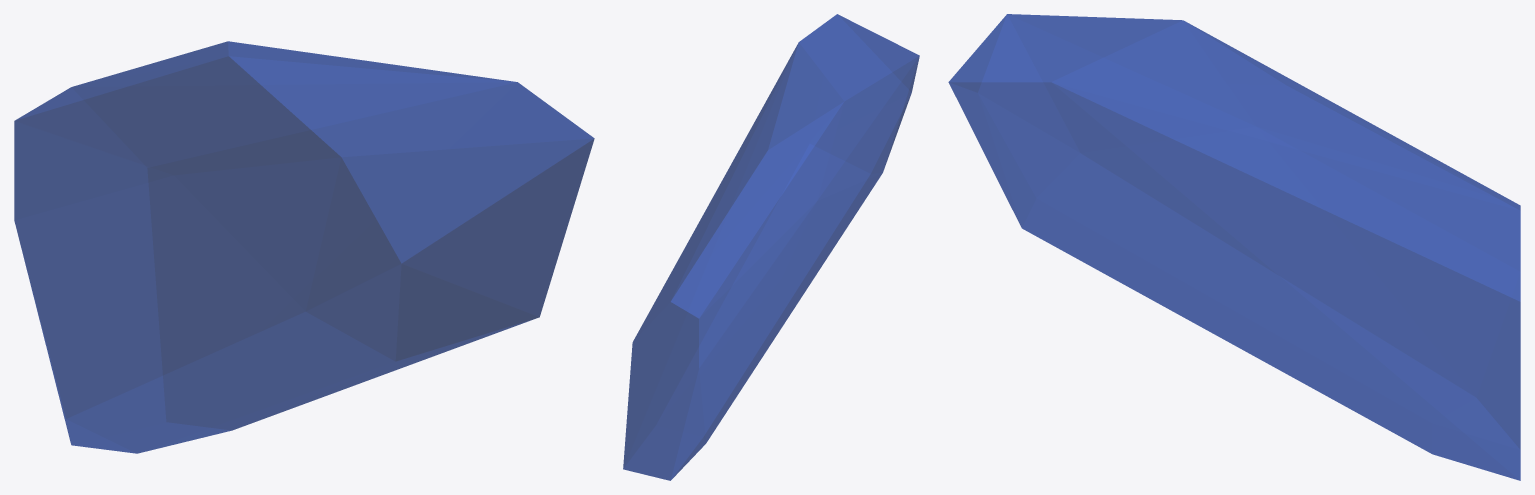
3 views of the same model, side by side, from view 1: azimuth 30°, elevation 25°; view 2: azimuth 150°, elevation 25°; view 3: azimuth 270°, elevation 25° (orthographic). The views are drawn at different scales.
Parts seen in each view (by area): view 1: Shape_IndexedFaceSet.019_Shape_IndexedFaceSet.15224; view 2: Shape_IndexedFaceSet.019_Shape_IndexedFaceSet.15224; view 3: Shape_IndexedFaceSet.019_Shape_IndexedFaceSet.15224.
Boxes of the visible parts, left/top/right/bottom form: Shape_IndexedFaceSet.019_Shape_IndexedFaceSet.15224: left=14, top=41, right=594, bottom=453; Shape_IndexedFaceSet.019_Shape_IndexedFaceSet.15224: left=623, top=14, right=919, bottom=480; Shape_IndexedFaceSet.019_Shape_IndexedFaceSet.15224: left=948, top=14, right=1520, bottom=480.
Bounding box in the file's own units: 0.00479 × 0.0131 × 0.017.
